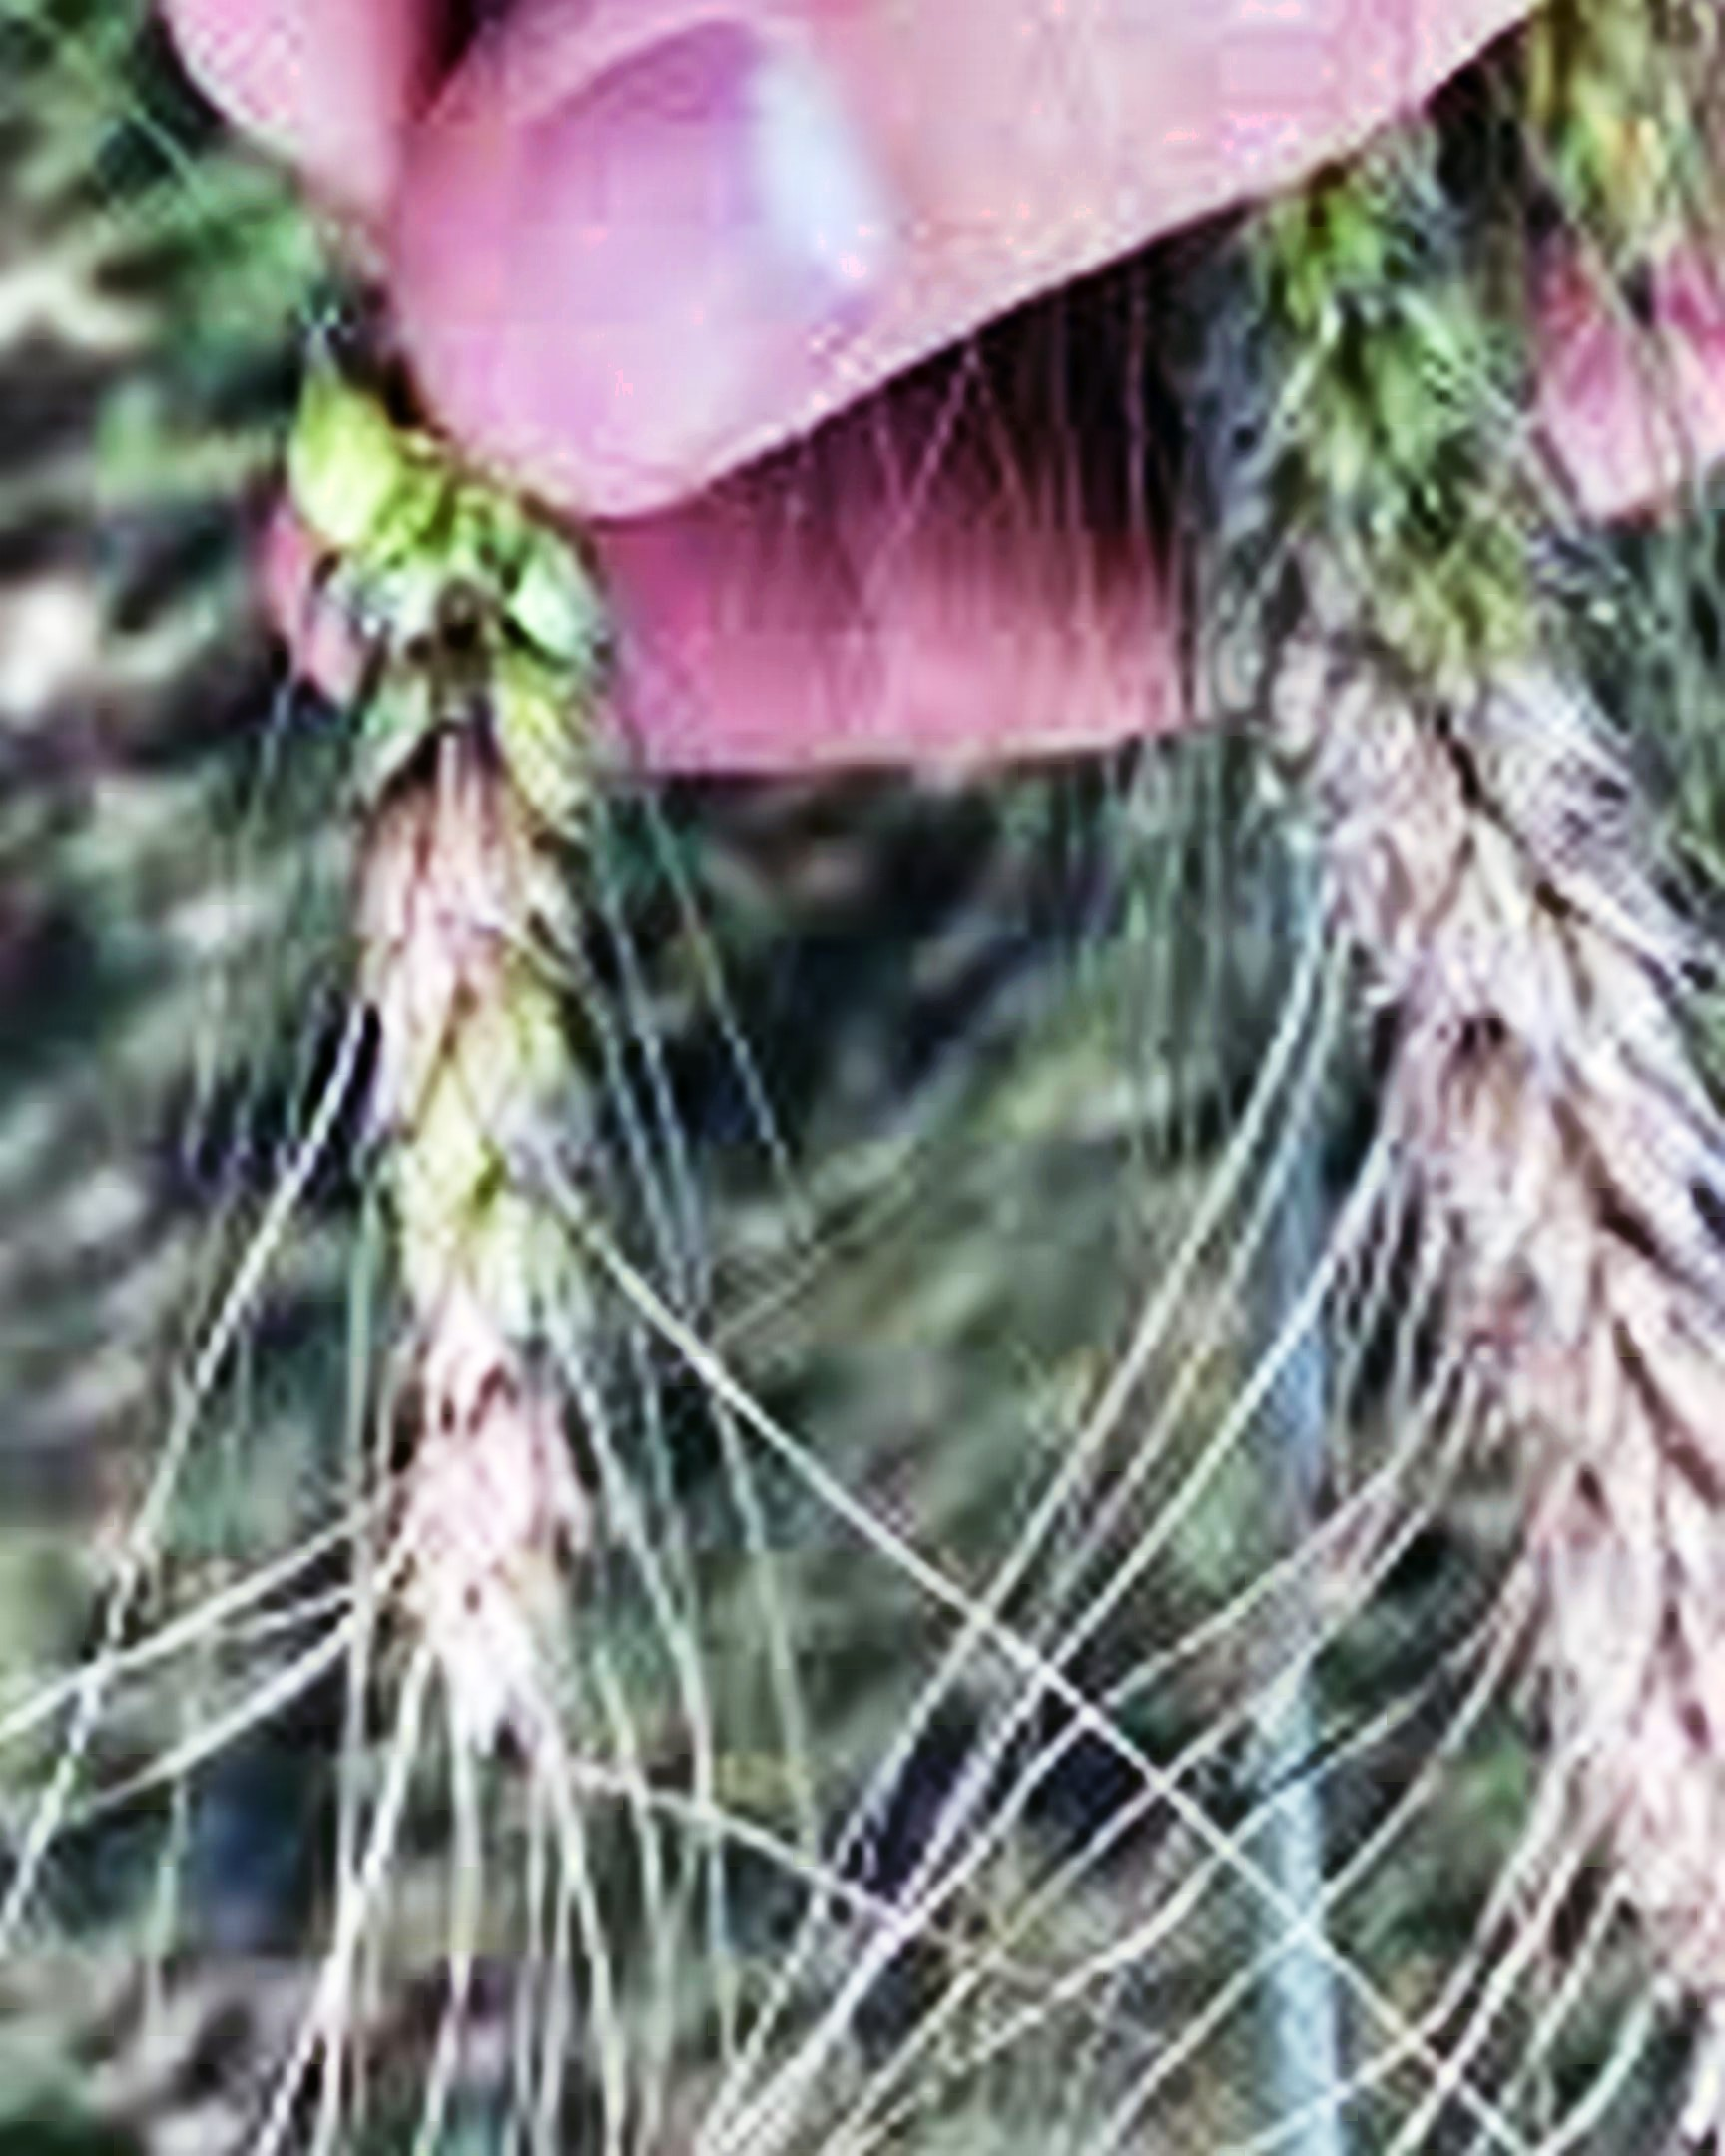Wheat scab: (1248, 183, 1725, 1904), (271, 398, 711, 1760)
